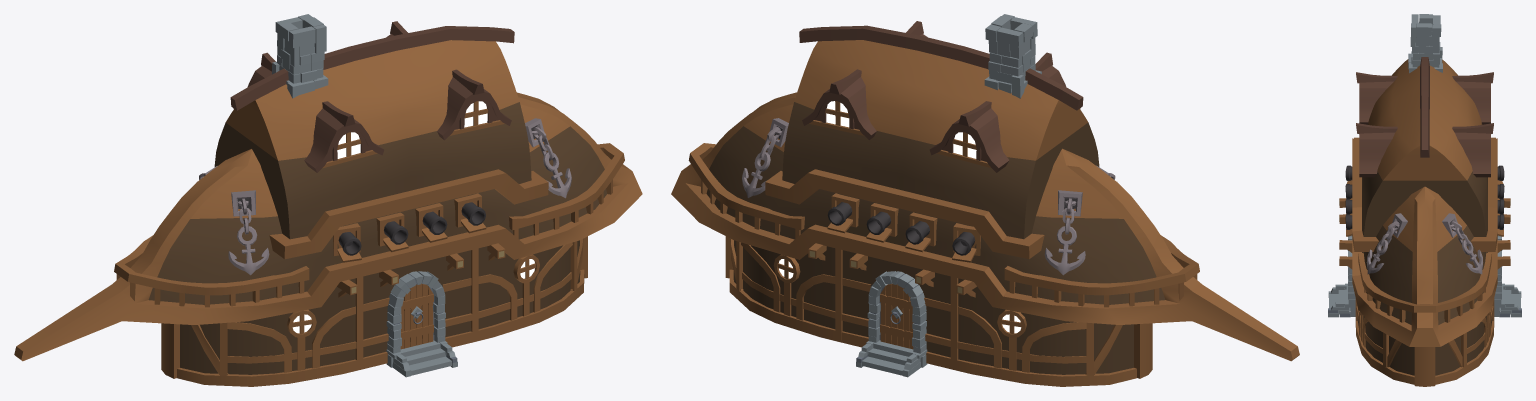
Rendered from Environment_House1.glb.
3 views of the same model, side by side, from view 1: azimuth 30°, elevation 25°; view 2: azimuth 150°, elevation 25°; view 3: azimuth 270°, elevation 25° (orthographic). The views are drawn at different scales.
Visible parts, largest first — view 1: Environment_House1; view 2: Environment_House1; view 3: Environment_House1.
Boxes of the visible parts, x1,y1,x2,y2 form: Environment_House1: [14, 14, 642, 386]; Environment_House1: [671, 14, 1299, 386]; Environment_House1: [1328, 14, 1521, 386].
Size of the model in its own units: 13.54 by 6.77 by 4.6.
2 materials, 1 textured.
